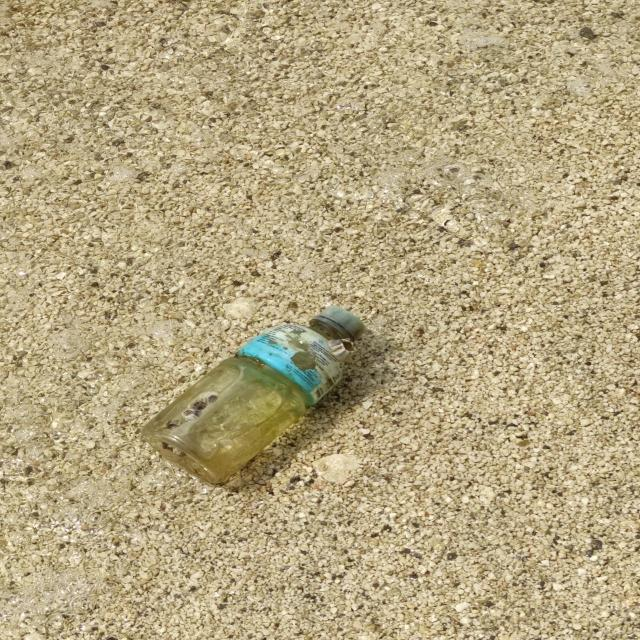plastic_waste: (142, 306, 368, 487)
